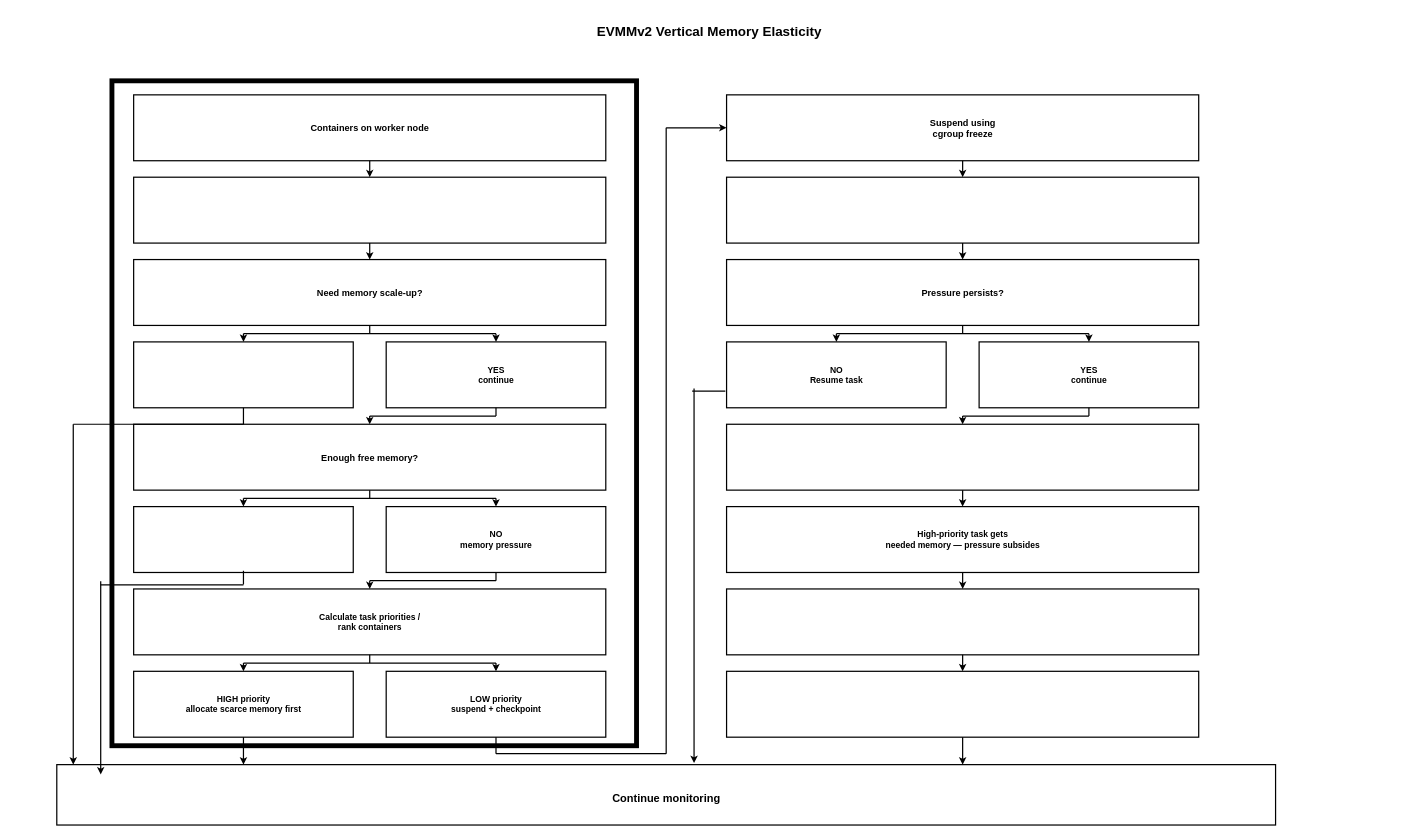
Some shapes in this 1419 by 837 pixel diagram are drawn without their labels. The centre of each missing label's shape, as x and y in pixels:
"Create checkpoint of runtime state" goes at point 962,209.
"EVMMv2 monitor Monitor memory usage" goes at point 369,209.
"Later resubmit checkpointed task to Kubernetes scheduler" goes at point 962,621.
"NO no scale-up needed" goes at point 243,374.
"Recreate container & resume from checkpoint" goes at point 962,703.
"Terminate lower-priority container — free memory" goes at point 962,456.
"YES scale up container" goes at point 243,539.
